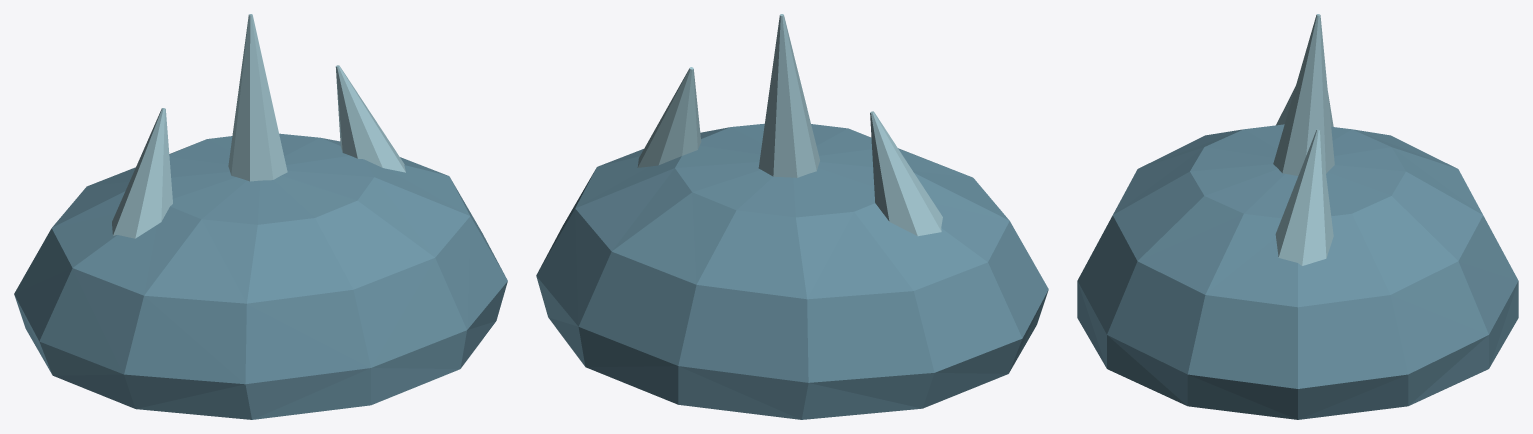
The model's file is rimecrest.glb.
3 renders of one model, left to right at view 1: azimuth 30°, elevation 25°; view 2: azimuth 150°, elevation 25°; view 3: azimuth 270°, elevation 25°, orthographic. The views are drawn at different scales.
Parts seen in each view (by area): view 1: Rime Crest.002; view 2: Rime Crest.002; view 3: Rime Crest.002.
Part boxes in pixels (left/top/right/bottom): Rime Crest.002: left=14, top=14, right=507, bottom=419; Rime Crest.002: left=536, top=14, right=1048, bottom=419; Rime Crest.002: left=1077, top=14, right=1518, bottom=419.
Bounding box in the file's own units: 0.66 × 0.4307 × 0.5676.
